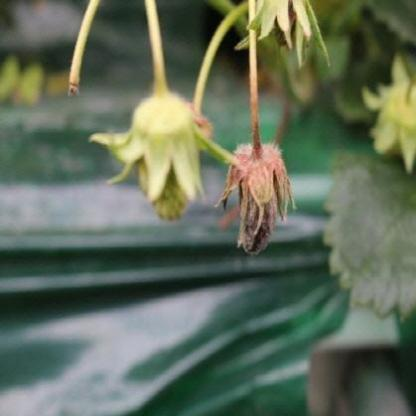Strawberry_Gray_Mold: (216, 130, 296, 256)
